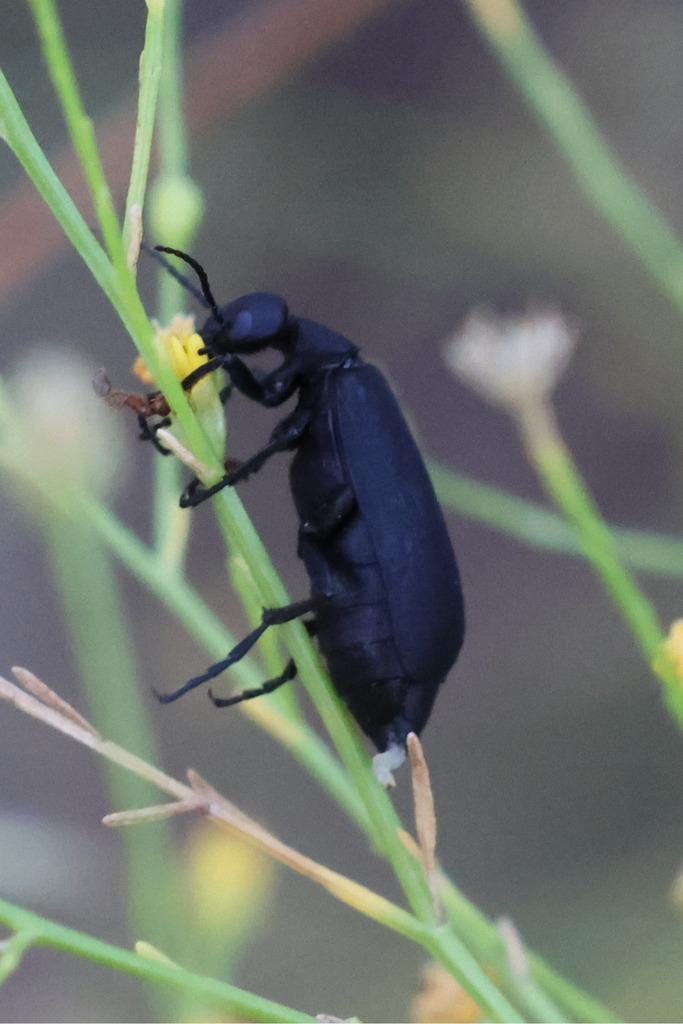blister_beetle: (17, 155, 644, 859)
